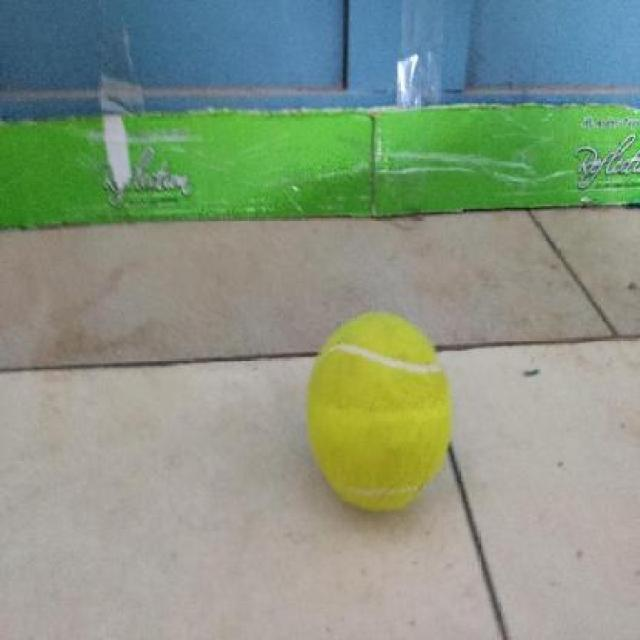-: (300, 293, 462, 532)
